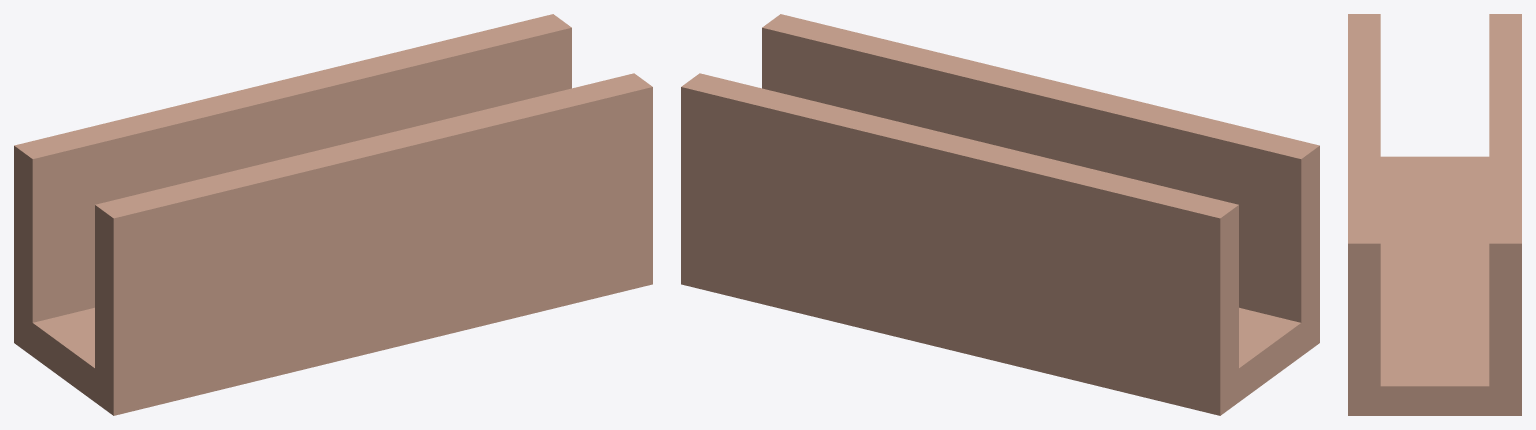
The model's file is c_scarf.glb.
3 renders of one model, left to right at view 1: azimuth 30°, elevation 25°; view 2: azimuth 150°, elevation 25°; view 3: azimuth 270°, elevation 25°, orthographic. The views are drawn at different scales.
Parts seen in each view (by area): view 1: c_scarf; view 2: c_scarf; view 3: c_scarf.
Part boxes in pixels (left/top/right/bottom): c_scarf: left=14, top=14, right=652, bottom=415; c_scarf: left=681, top=14, right=1319, bottom=415; c_scarf: left=1348, top=14, right=1521, bottom=415.
Bounding box in the file's own units: 0.5 × 0.175 × 0.16.
